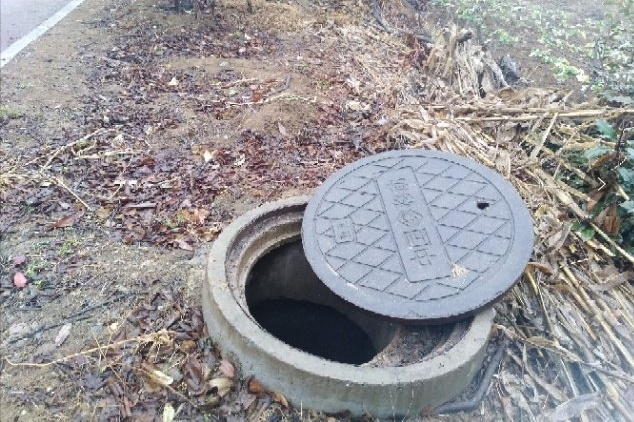well: (203, 148, 536, 407)
